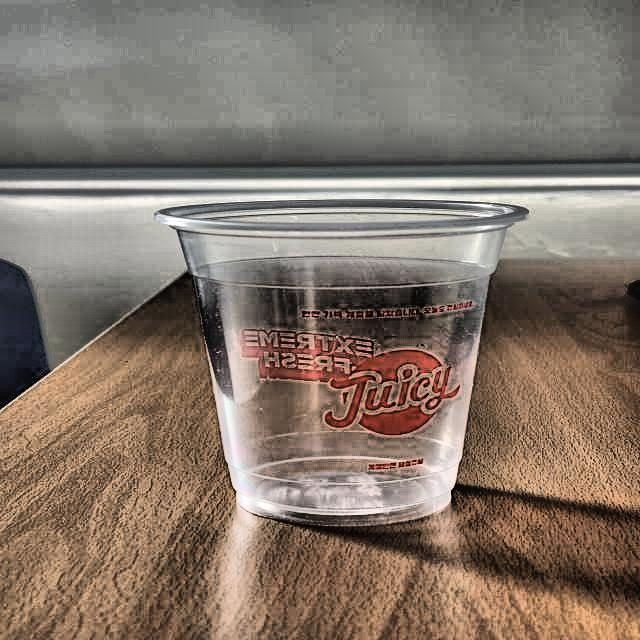plastic cup: (153, 196, 532, 527)
